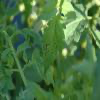Tomato leaf bacterial spot: (40, 10, 67, 77)
